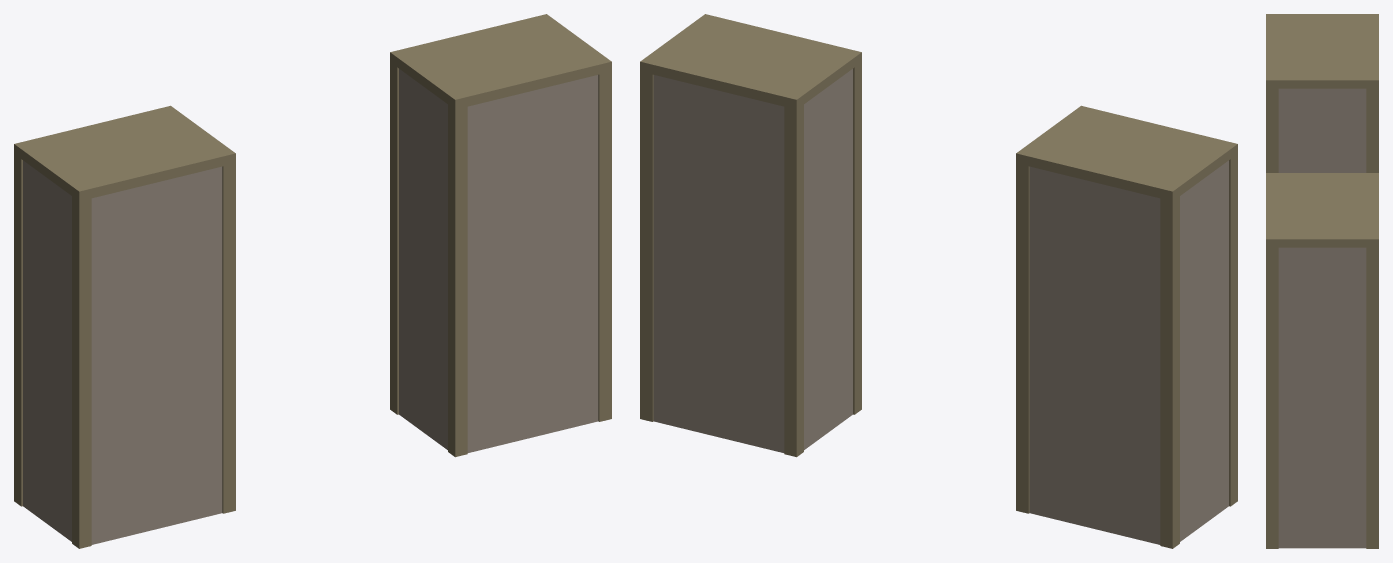
File: Ugly dungeon mainstage.fbx
3 renders of one model, left to right at view 1: azimuth 30°, elevation 25°; view 2: azimuth 150°, elevation 25°; view 3: azimuth 270°, elevation 25°, orthographic. The views are drawn at different scales.
Visible parts, largest first — view 1: Ugly main platforms; view 2: Ugly main platforms; view 3: Ugly main platforms.
Boxes of the visible parts, left/top/right/bottom form: Ugly main platforms: left=14, top=14, right=611, bottom=548; Ugly main platforms: left=640, top=14, right=1237, bottom=548; Ugly main platforms: left=1266, top=14, right=1378, bottom=548.
Bounding box in the file's own units: 8500 × 5450 × 1800.
